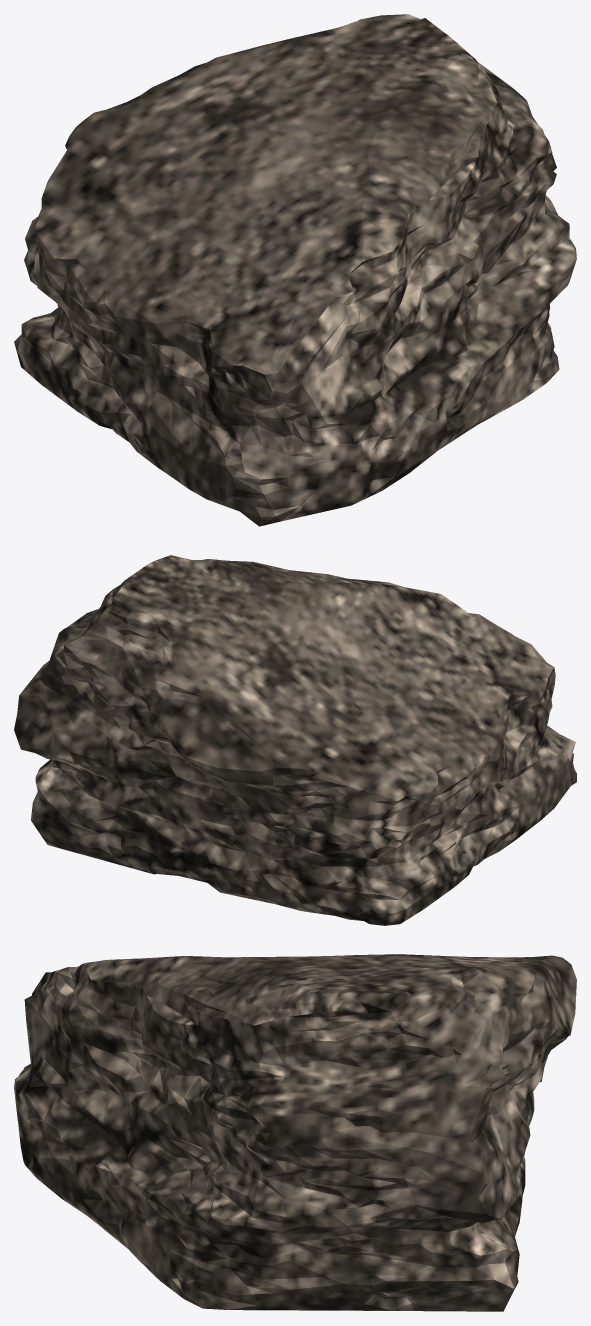
Rendered from SM_ION_CommonRock_03.fbx.
The picture shows the model from 3 angles, top to bottom: view 1: azimuth 30°, elevation 25°; view 2: azimuth 150°, elevation 25°; view 3: azimuth 270°, elevation 25°; orthographic projection. The views are drawn at different scales.
Parts seen in each view (by area): view 1: SM_ION_CommonRock_03.mo; view 2: SM_ION_CommonRock_03.mo; view 3: SM_ION_CommonRock_03.mo.
Boxes of the visible parts, bbox=[...] form: SM_ION_CommonRock_03.mo: bbox=[14, 14, 576, 526]; SM_ION_CommonRock_03.mo: bbox=[14, 555, 576, 925]; SM_ION_CommonRock_03.mo: bbox=[14, 954, 576, 1311].
Size of the model in its own units: 337 by 204 by 342.
